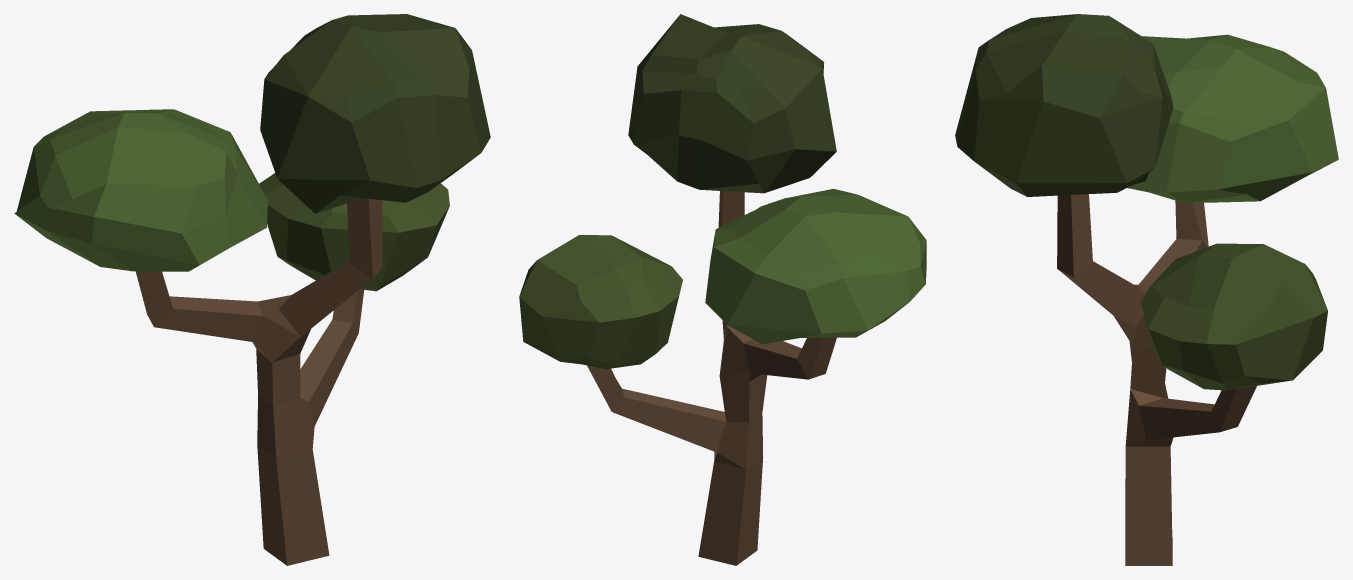
File: TreeThreeColours.fbx
3 renders of one model, left to right at view 1: azimuth 30°, elevation 25°; view 2: azimuth 150°, elevation 25°; view 3: azimuth 270°, elevation 25°, orthographic. The views are drawn at different scales.
Parts seen in each view (by area): view 1: TreeThreeColours; view 2: TreeThreeColours; view 3: TreeThreeColours.
Part boxes in pixels (x1,y1,x2,y2): TreeThreeColours: (14, 14, 490, 565); TreeThreeColours: (519, 14, 926, 565); TreeThreeColours: (955, 14, 1338, 565).
Size of the model in its own units: 229 by 283 by 178.
